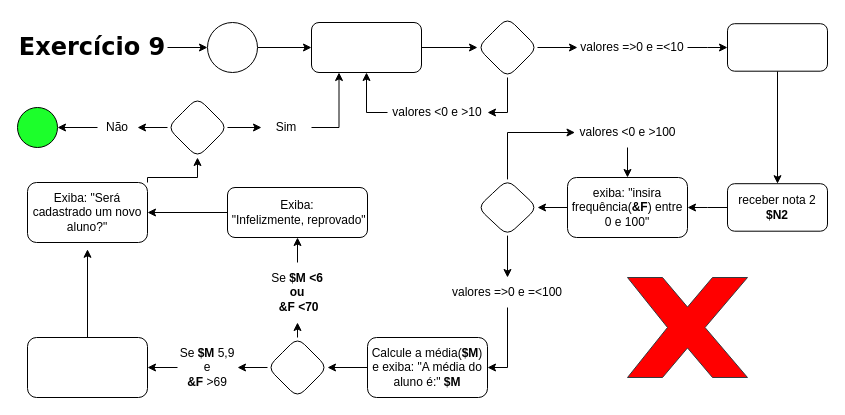
Image size: 845x415. Some labels were removed from this diagram. Each missing label, with the centre of its shape:
exiba: "insira notas entre 0 e 10": [366,47]
exiba: "Parabéns, aprovado": [87,367]
receber nota 1 $N1: [777,47]
